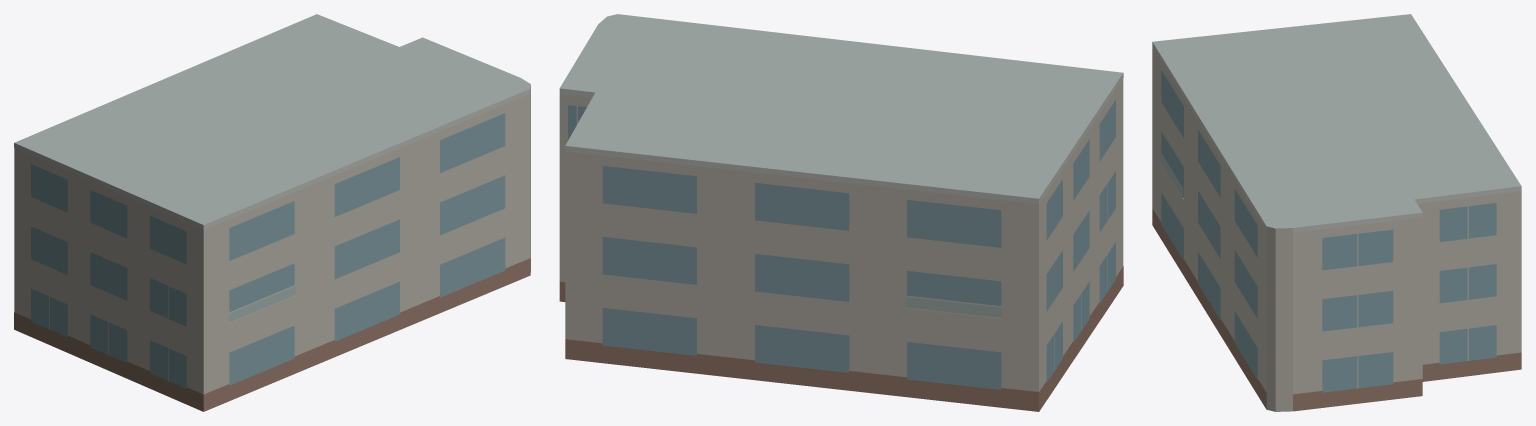
File: survey-upis-32604797.glb
3 renders of one model, left to right at view 1: azimuth 30°, elevation 25°; view 2: azimuth 150°, elevation 25°; view 3: azimuth 270°, elevation 25°, orthographic. The views are drawn at different scales.
Parts seen in each view (by area): view 1: survey-upis-32604797.tmp; view 2: survey-upis-32604797.tmp; view 3: survey-upis-32604797.tmp.
Part boxes in pixels (x1=…): survey-upis-32604797.tmp: x1=14, y1=14, x2=530, y2=411; survey-upis-32604797.tmp: x1=559, y1=14, x2=1123, y2=411; survey-upis-32604797.tmp: x1=1152, y1=14, x2=1521, y2=411.
Size of the model in its own units: 22.95 by 9.15 by 16.7.
